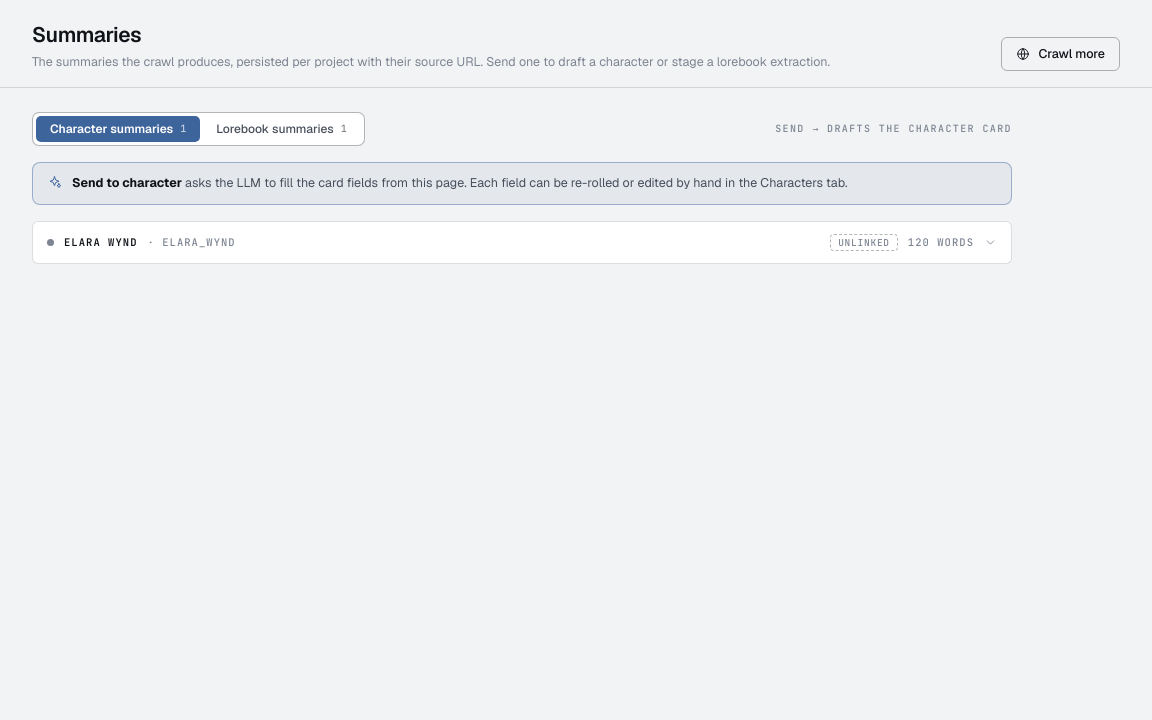
SummariesScreen › edits a summary and saves it through the backend
Click the text "Elara Wynd". click: (101, 242)
box: [64,237,138,248]
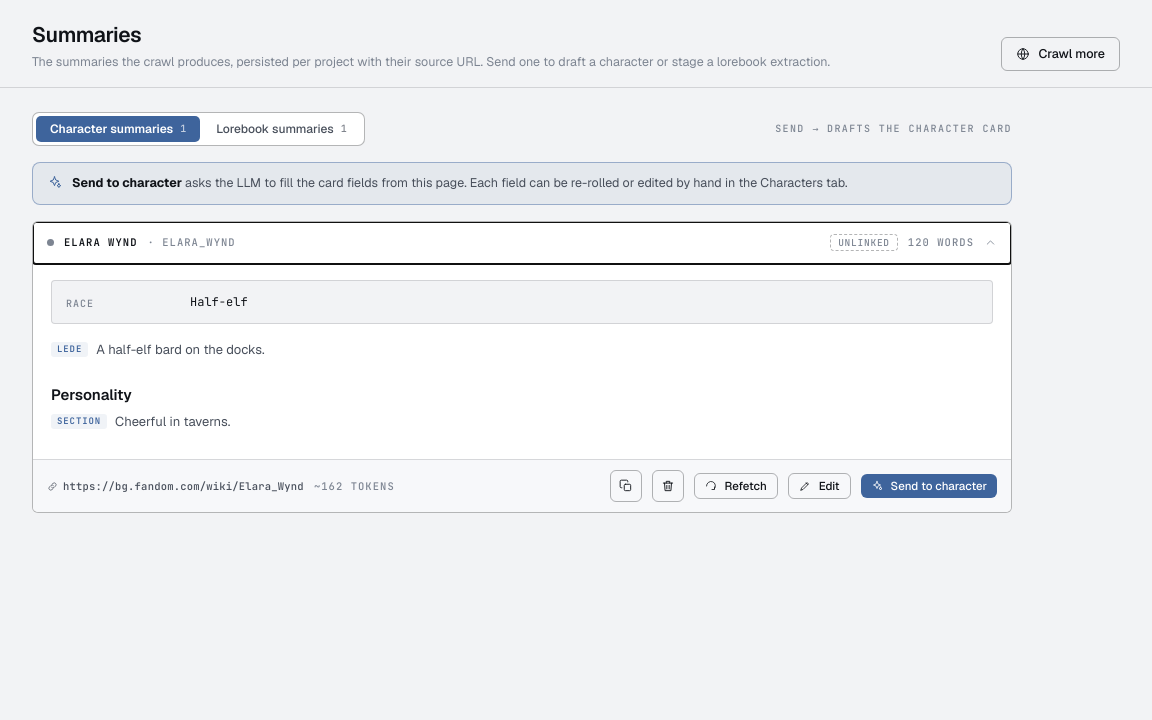
Click the button "Edit". click: (819, 486)
box: [788,473,850,499]
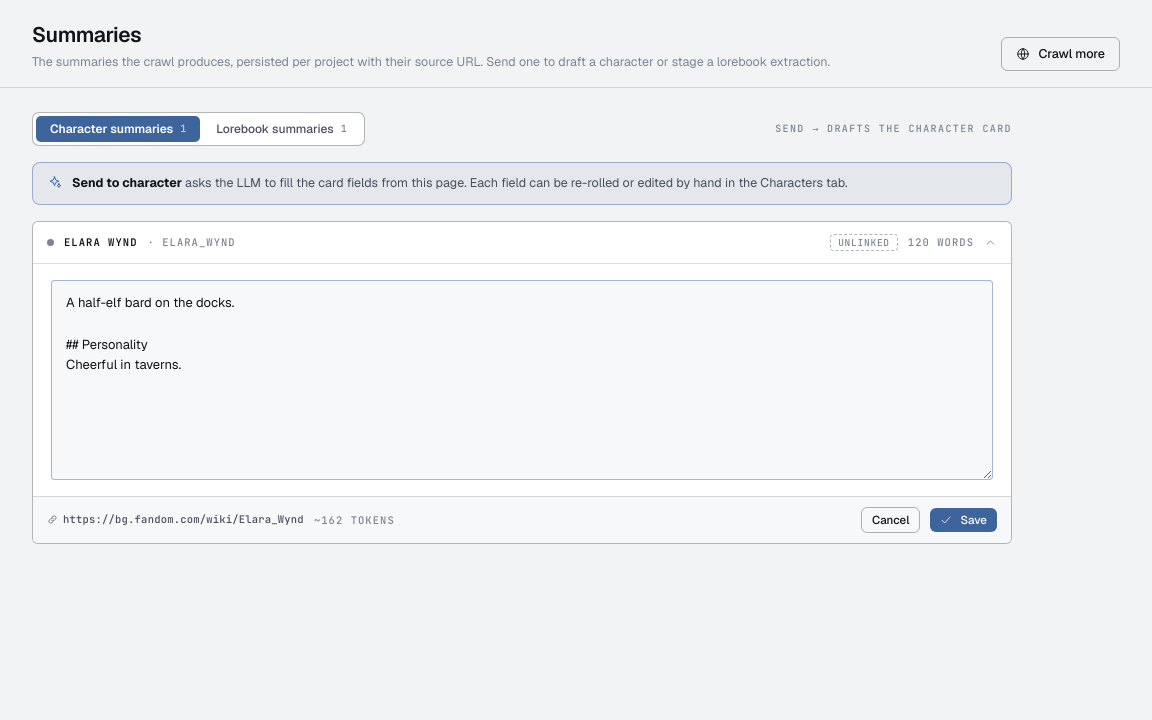
Replace the text in the text box named "Summary text" with "Rewritten lede.". click: (522, 380)
box: [51,280,993,480]
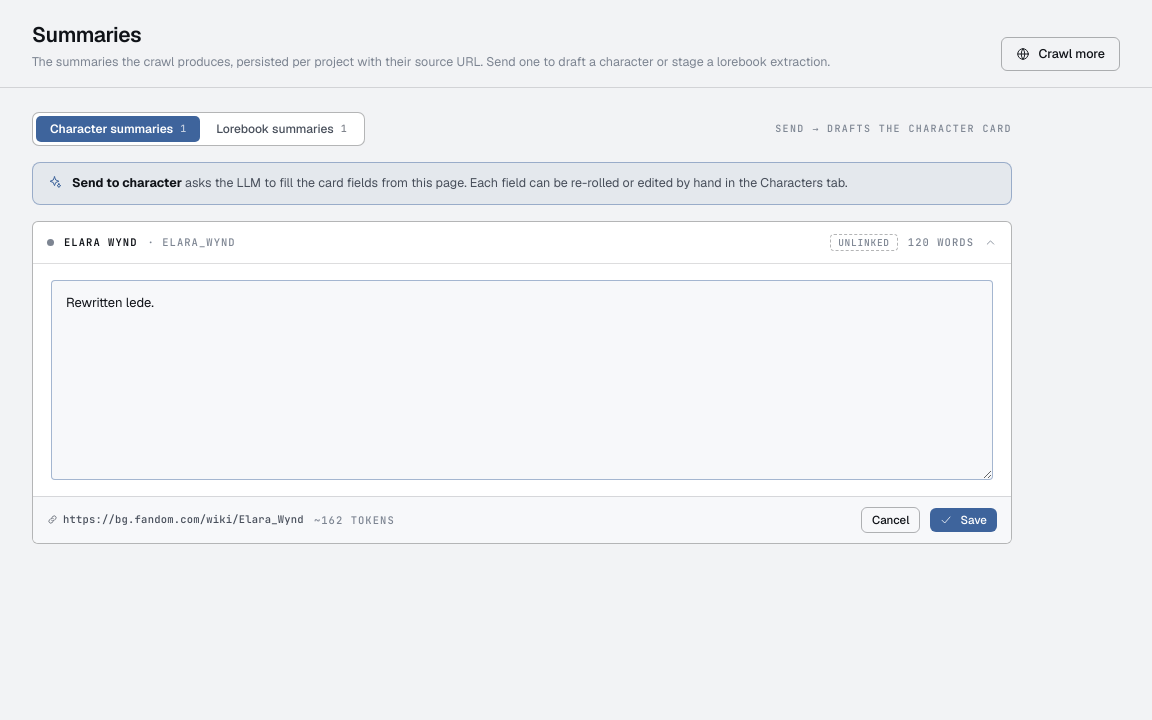
Click the button "Save". click: (964, 520)
box: [930,508,997,532]
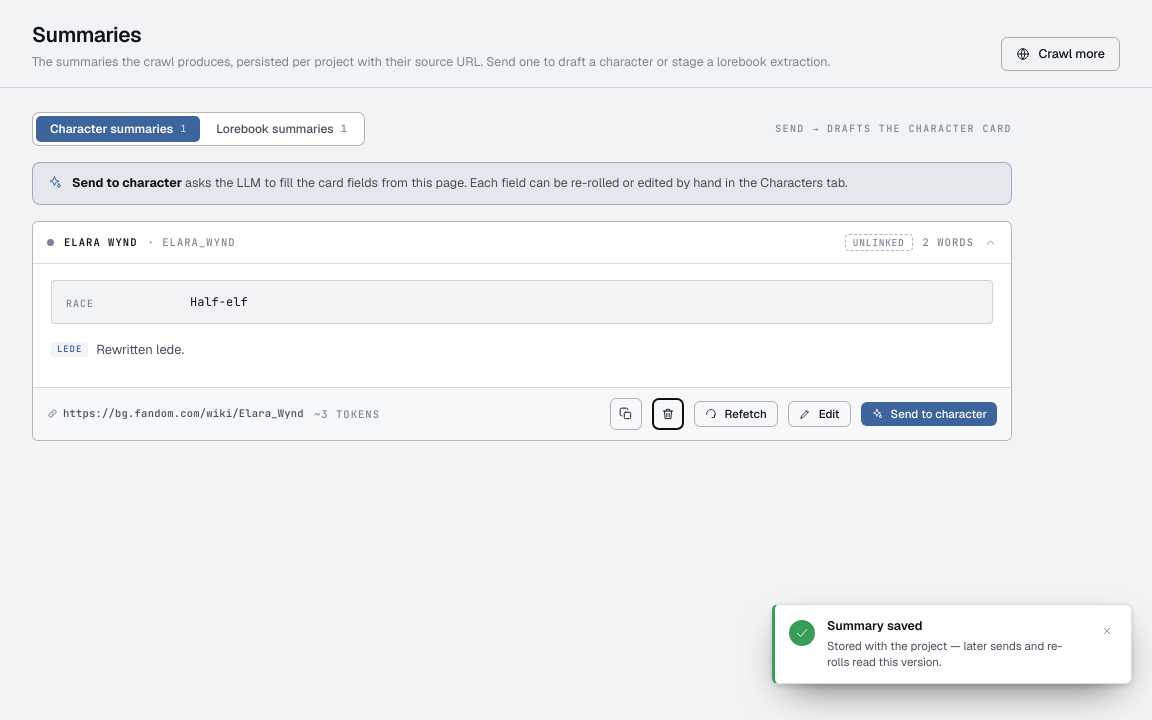
Now the text "Summary saved" is shown, box [827,617,923,634]
Now the text "lede Rewritten lede." is shown, box [51,341,184,358]
